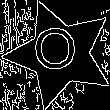O_S: (36, 27, 84, 81)
